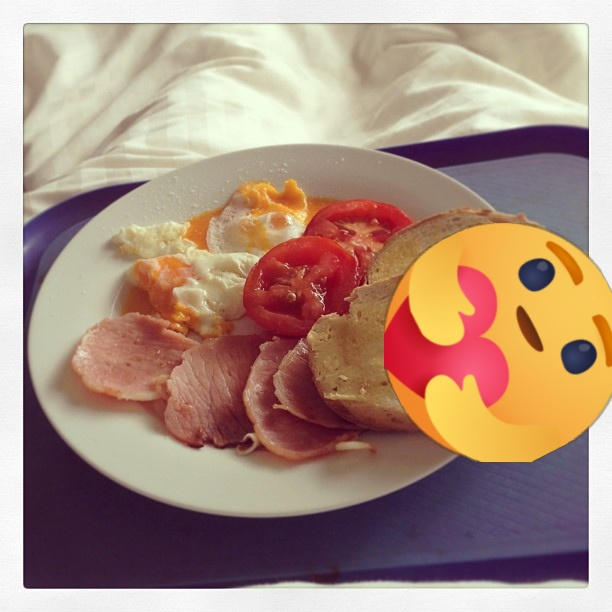care: (384, 223, 612, 462)
